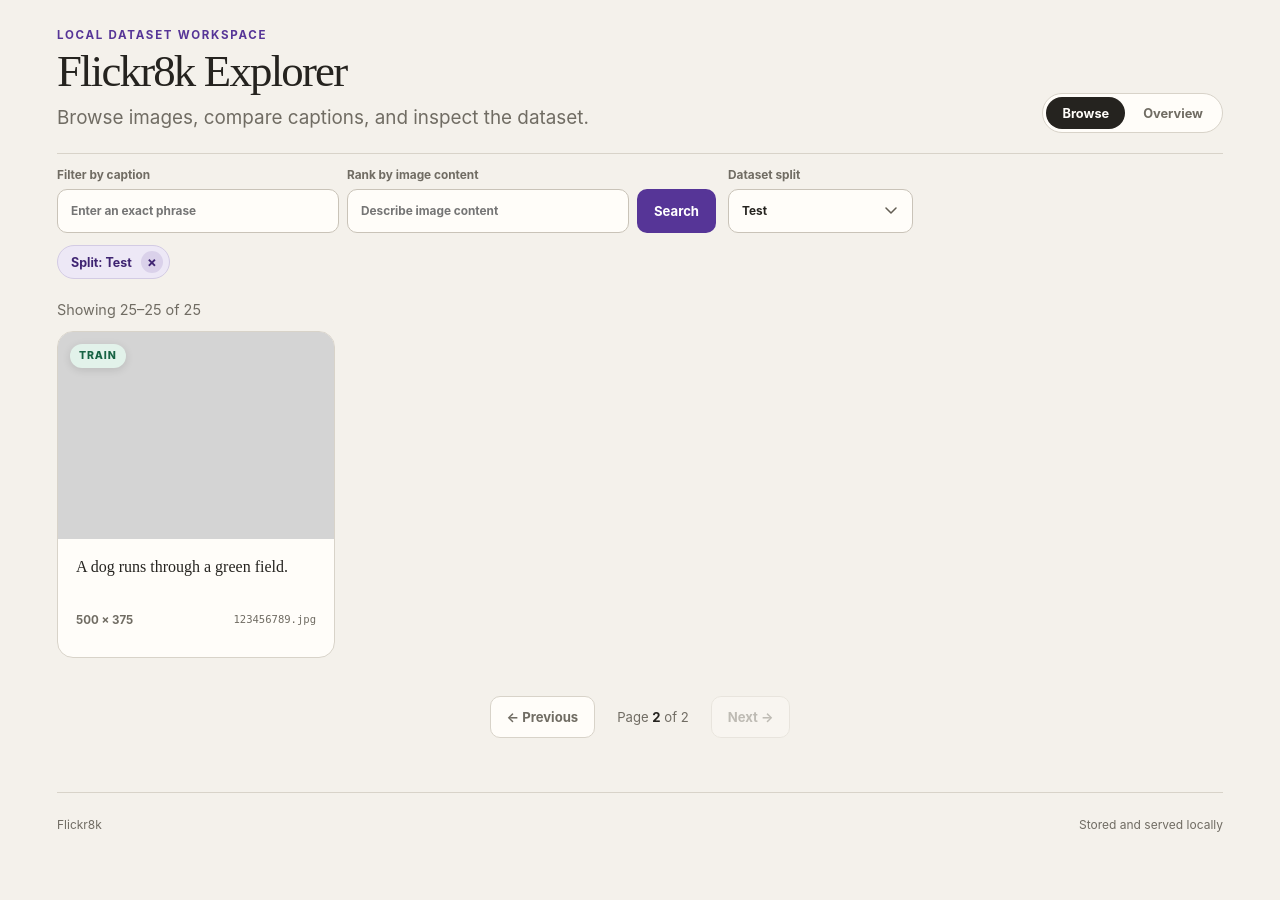
Test: submits both drafts together and clears the previous offset
Step 1. Type " snow " into the search field labelled "Filter by caption" → (198, 211), box [57, 189, 339, 233]
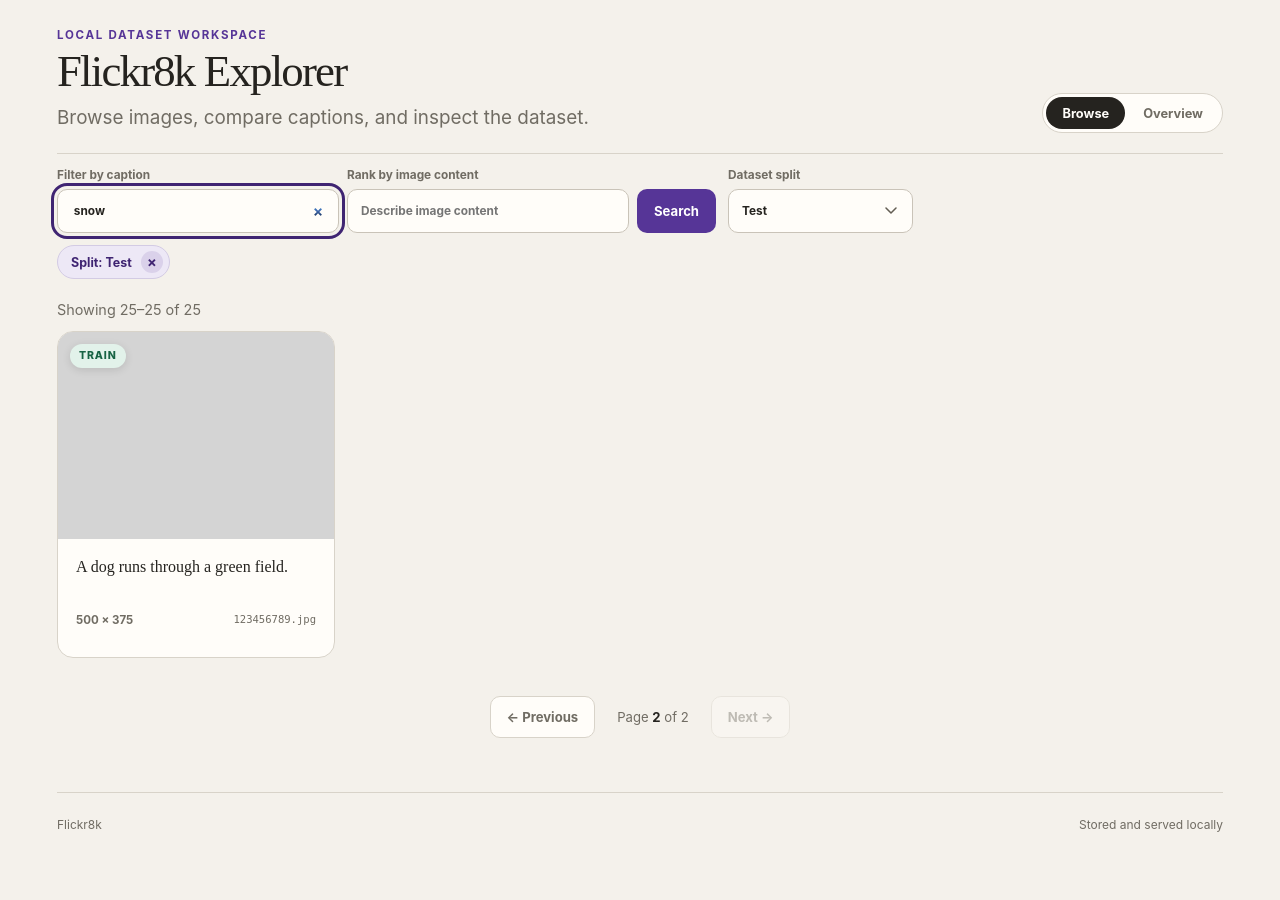
Step 2. Type " a dog jumping " into the search field labelled "Rank by image content" → (488, 211), box [347, 189, 629, 233]
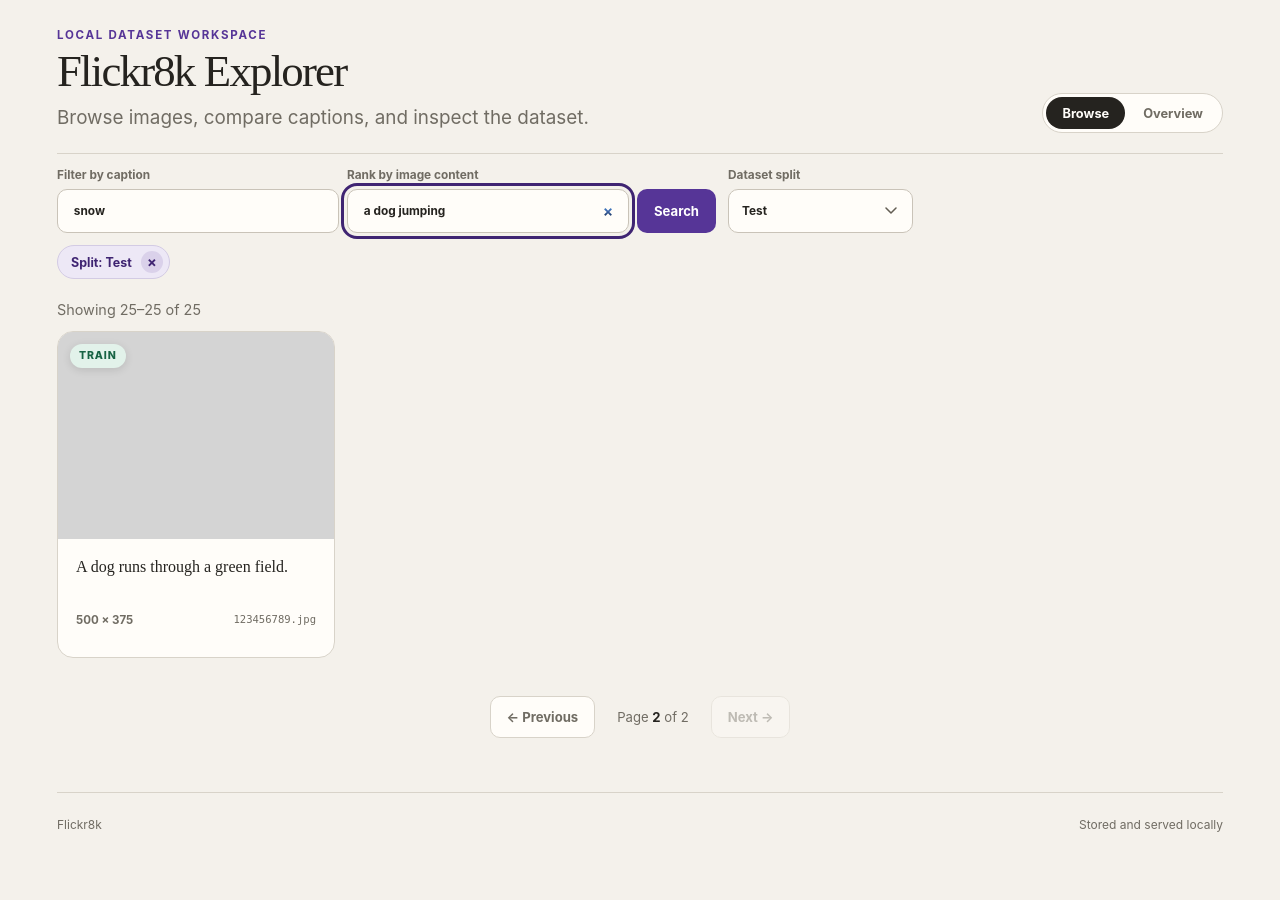
Step 3. Click the button "Search" → (676, 211), box [637, 189, 716, 233]
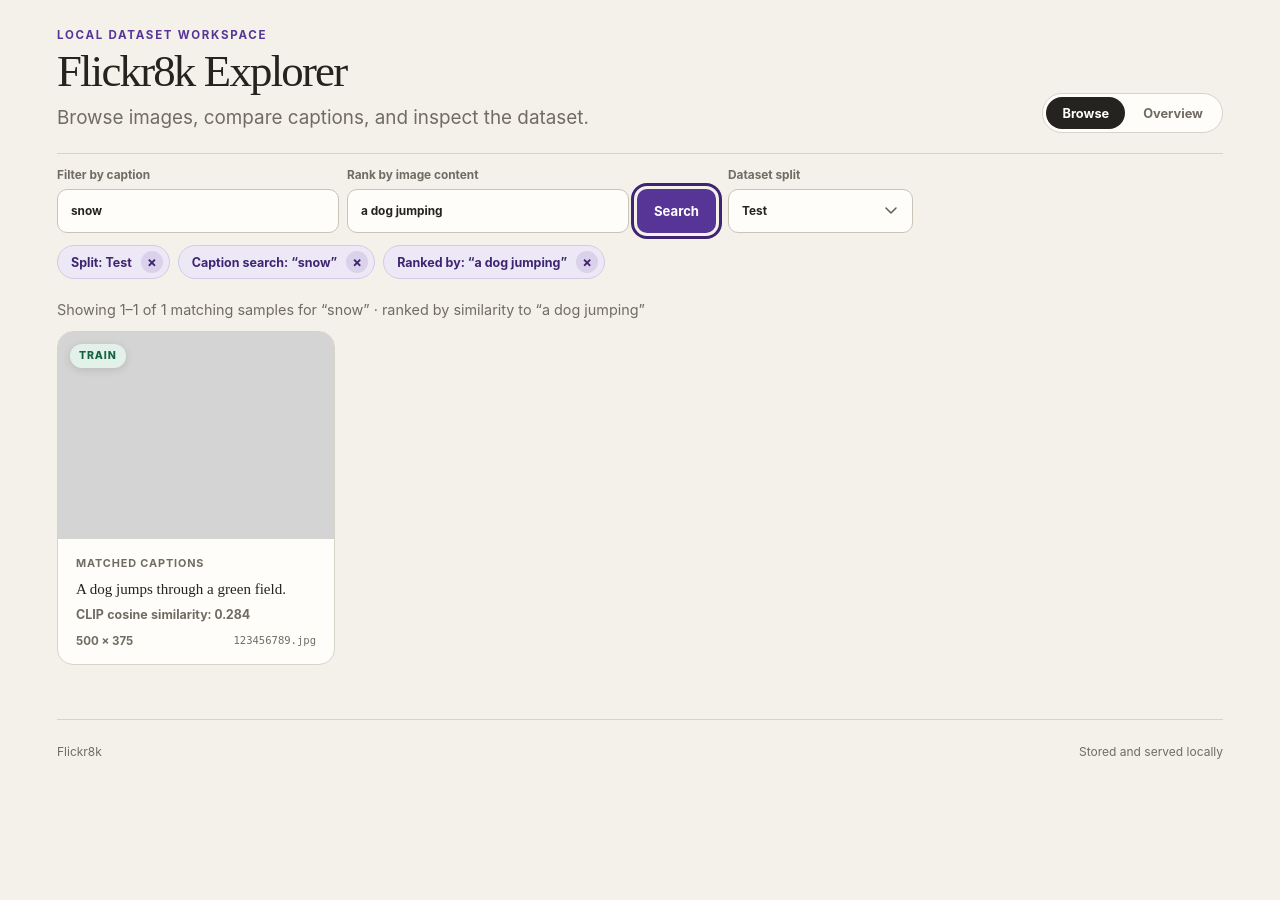
Check: the text "CLIP cosine similarity: 0.284" is shown, box [76, 607, 250, 622]
Check: the text "Caption search: “snow”" is shown, box [192, 255, 337, 270]
Check: the text "Ranked by: “a dog jumping”" is shown, box [397, 255, 567, 270]
